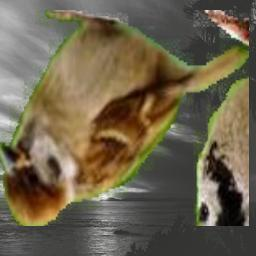Sparrow: (0, 10, 249, 226)
